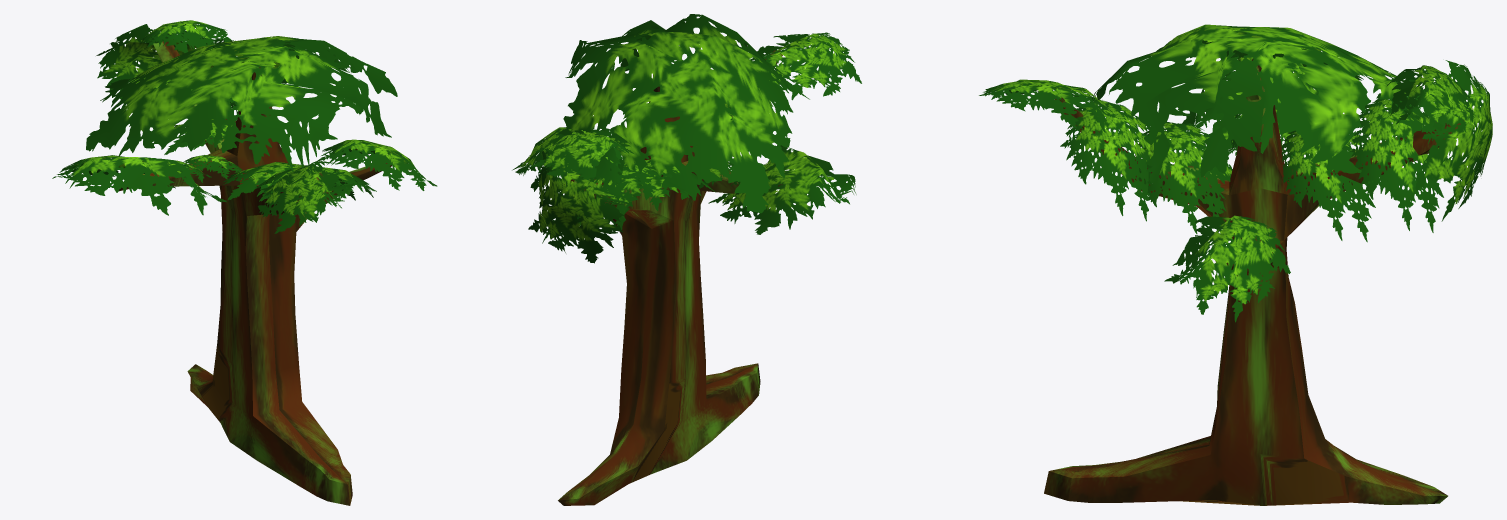
The model's file is tree final animation.fbx.
3 views of the same model, side by side, from view 1: azimuth 30°, elevation 25°; view 2: azimuth 150°, elevation 25°; view 3: azimuth 270°, elevation 25° (orthographic). The views are drawn at different scales.
Parts seen in each view (by area): view 1: pPlane24; view 2: pPlane24; view 3: pPlane24.
Part boxes in pixels (bbox=[...]): pPlane24: bbox=[52, 20, 437, 505]; pPlane24: bbox=[512, 14, 861, 505]; pPlane24: bbox=[979, 24, 1492, 505].
Size of the model in its own units: 18.79 by 16.79 by 17.72.
